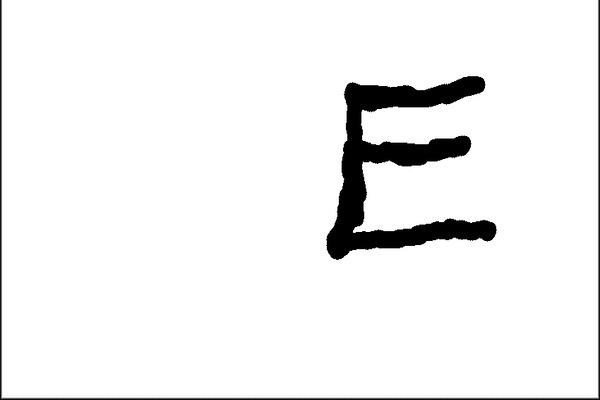E: (320, 72, 501, 264)
